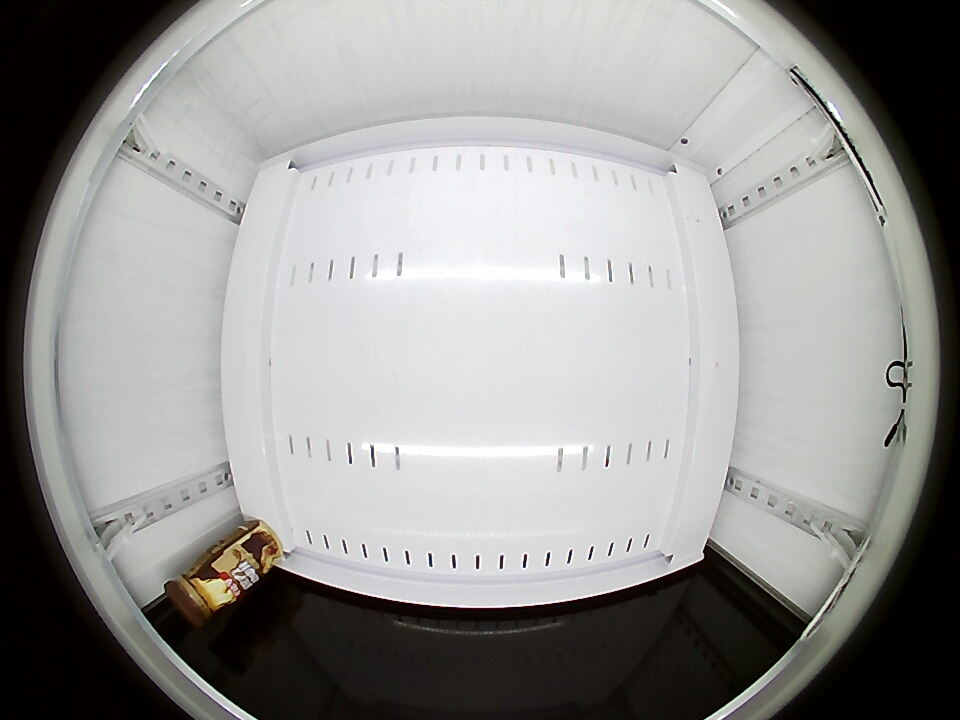lujikafei: (164, 553, 239, 624)
